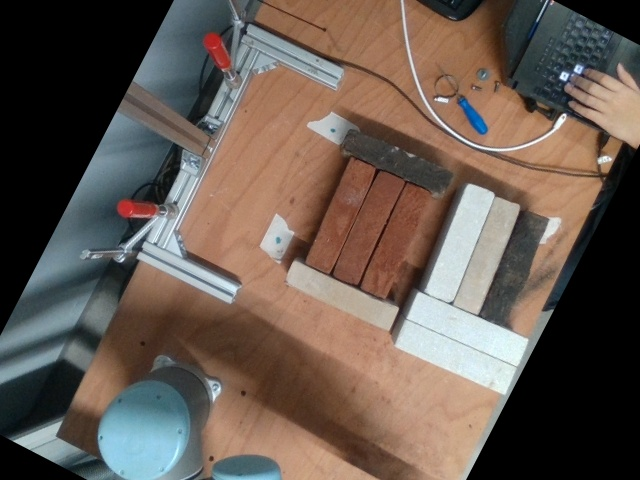brick-side: (394, 318, 517, 394), (407, 291, 530, 367), (425, 183, 495, 304), (451, 195, 520, 314), (306, 158, 376, 273), (334, 171, 404, 286), (361, 183, 431, 298), (284, 261, 398, 330), (340, 128, 454, 197), (479, 210, 547, 325)
